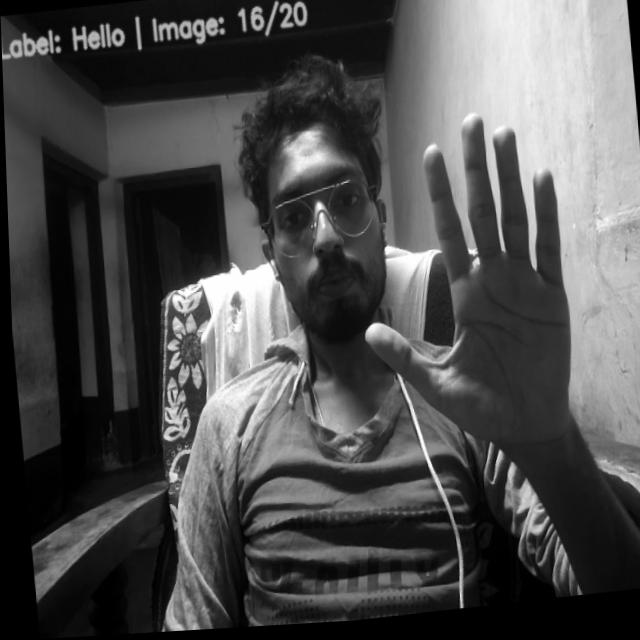Hello: (348, 108, 583, 470)
